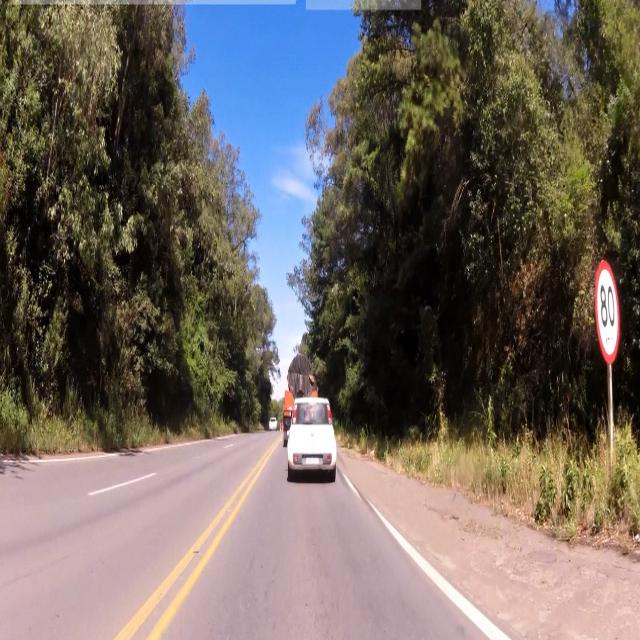R-19: (592, 260, 623, 366)
